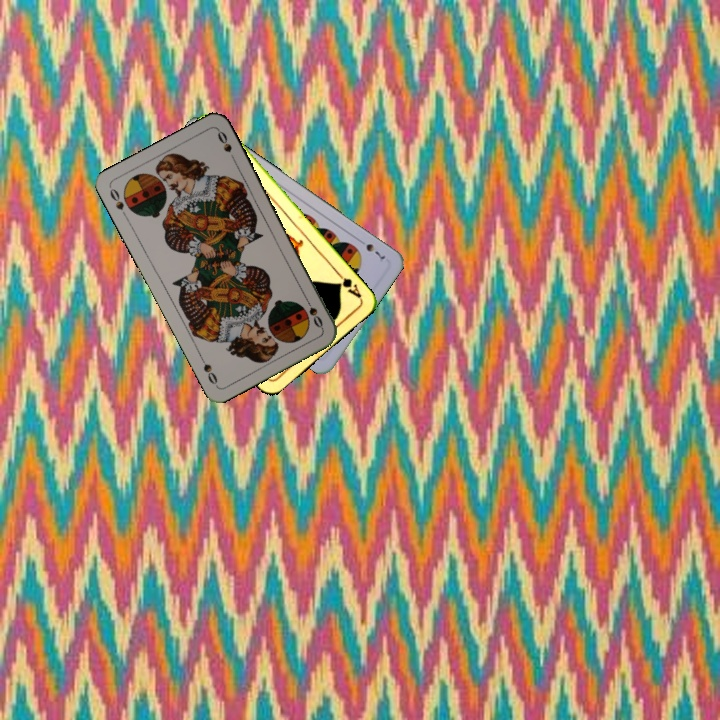GA: (332, 267, 364, 301)
S7: (354, 235, 388, 262)
SO: (301, 294, 326, 331), (106, 184, 131, 221)
